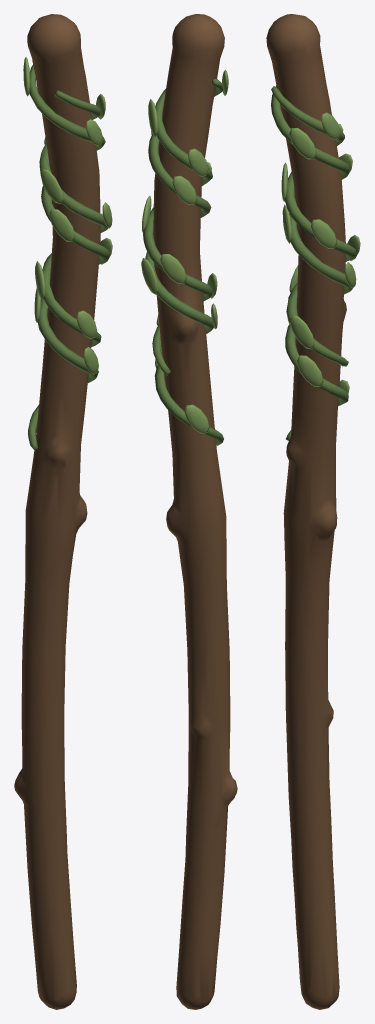
The model's file is Baton_P1.fbx.
The picture shows the model from 3 angles, left to right: view 1: azimuth 30°, elevation 25°; view 2: azimuth 210°, elevation 25°; view 3: azimuth 330°, elevation 25°; orthographic projection. The views are drawn at different scales.
Visible parts, largest first — view 1: Baton_Bois, Baton_Liane, Baton_Feuilles; view 2: Baton_Bois, Baton_Liane, Baton_Feuilles; view 3: Baton_Bois, Baton_Liane, Baton_Feuilles.
Boxes of the visible parts, box(x1,y1,x2,y2) form: Baton_Bois: box(14, 14, 100, 1009); Baton_Liane: box(28, 65, 109, 450); Baton_Feuilles: box(23, 57, 112, 374); Baton_Bois: box(153, 14, 237, 1009); Baton_Liane: box(143, 79, 223, 445); Baton_Feuilles: box(141, 70, 228, 433); Baton_Bois: box(266, 14, 346, 1009); Baton_Liane: box(271, 85, 355, 440); Baton_Feuilles: box(281, 112, 360, 393).
Size of the model in its own units: 0.3426 by 4.09 by 0.3187.
